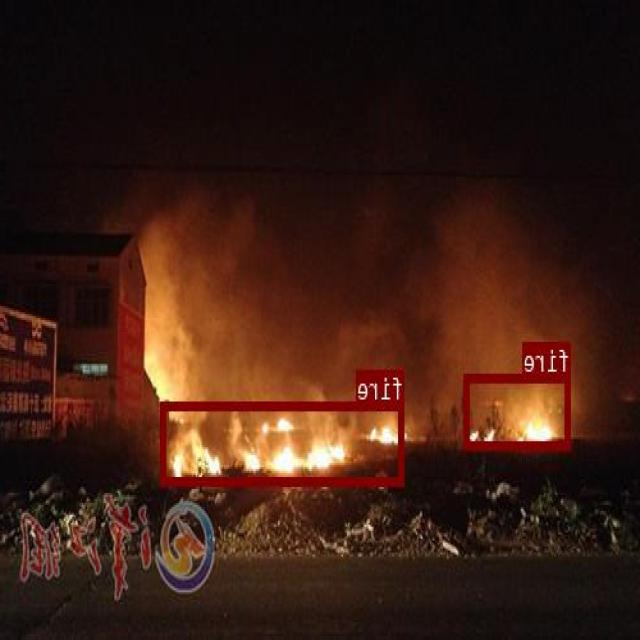fire: (161, 399, 406, 484), (465, 373, 571, 448)
